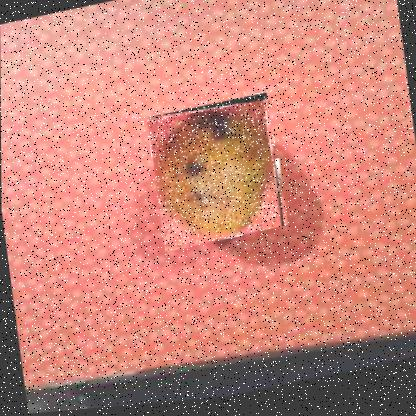mango_rotten: (146, 95, 287, 256)
